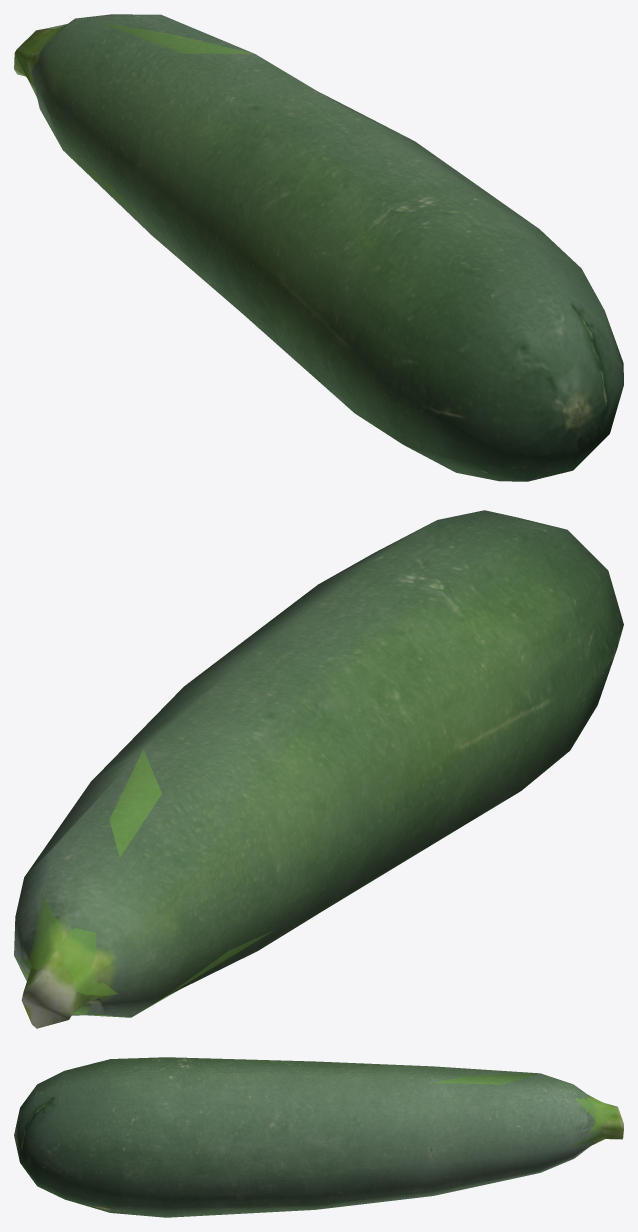
Rendered from pg_Zucchini_02.fbx.
3 views of the same model, one above another, from view 1: azimuth 30°, elevation 25°; view 2: azimuth 150°, elevation 25°; view 3: azimuth 270°, elevation 25° (orthographic). The views are drawn at different scales.
Visible parts, largest first — view 1: pg_Zucchini_02_a_LOD0, pg_Zucchini_02_a_col; view 2: pg_Zucchini_02_a_LOD0, pg_Zucchini_02_a_col; view 3: pg_Zucchini_02_a_LOD0, pg_Zucchini_02_a_col.
Part boxes in pixels (box(x1,y1,x2,y2)): pg_Zucchini_02_a_LOD0: box(14, 14, 623, 481); pg_Zucchini_02_a_col: box(15, 22, 253, 229); pg_Zucchini_02_a_LOD0: box(14, 510, 623, 1028); pg_Zucchini_02_a_col: box(14, 749, 272, 1017); pg_Zucchini_02_a_LOD0: box(14, 1057, 623, 1217); pg_Zucchini_02_a_col: box(435, 1073, 618, 1146).
Size of what is drawn, in the model's own units: 4.8 by 4.66 by 18.26.
2 materials, 1 textured.
